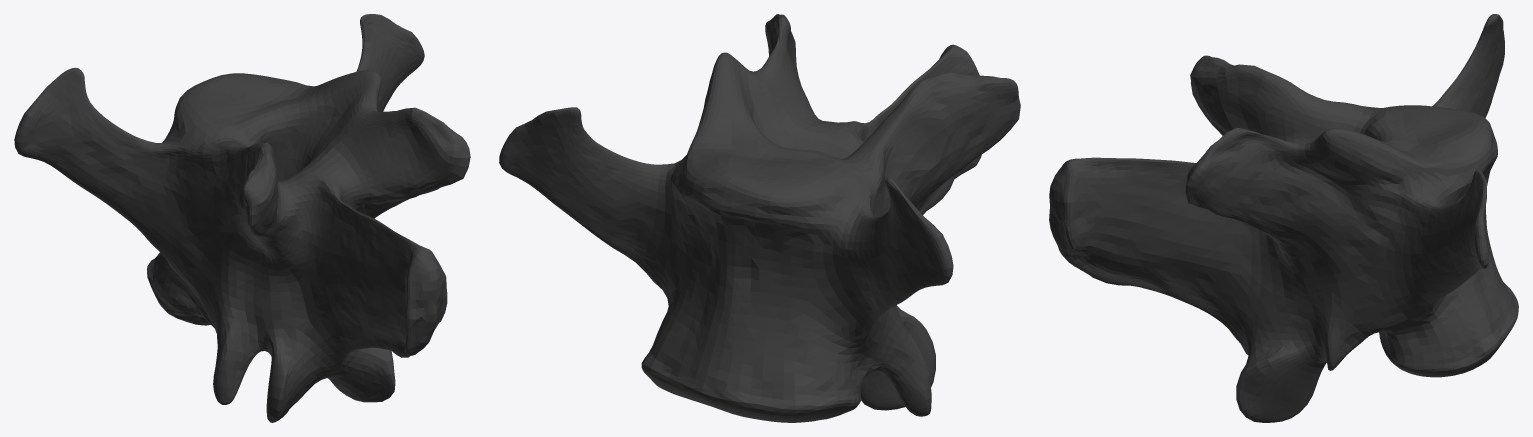
3 views of the same model, side by side, from view 1: azimuth 30°, elevation 25°; view 2: azimuth 150°, elevation 25°; view 3: azimuth 270°, elevation 25° (orthographic). The views are drawn at different scales.
Parts seen in each view (by area): view 1: l2_low; view 2: l2_low; view 3: l2_low.
Boxes of the visible parts, left/top/right/bottom form: l2_low: left=14, top=14, right=470, bottom=422; l2_low: left=499, top=14, right=1020, bottom=422; l2_low: left=1049, top=14, right=1518, bottom=422.
Bounding box in the file's own units: 59.94 × 43.08 × 58.33.
Materials: 1 (1 with a texture image).
